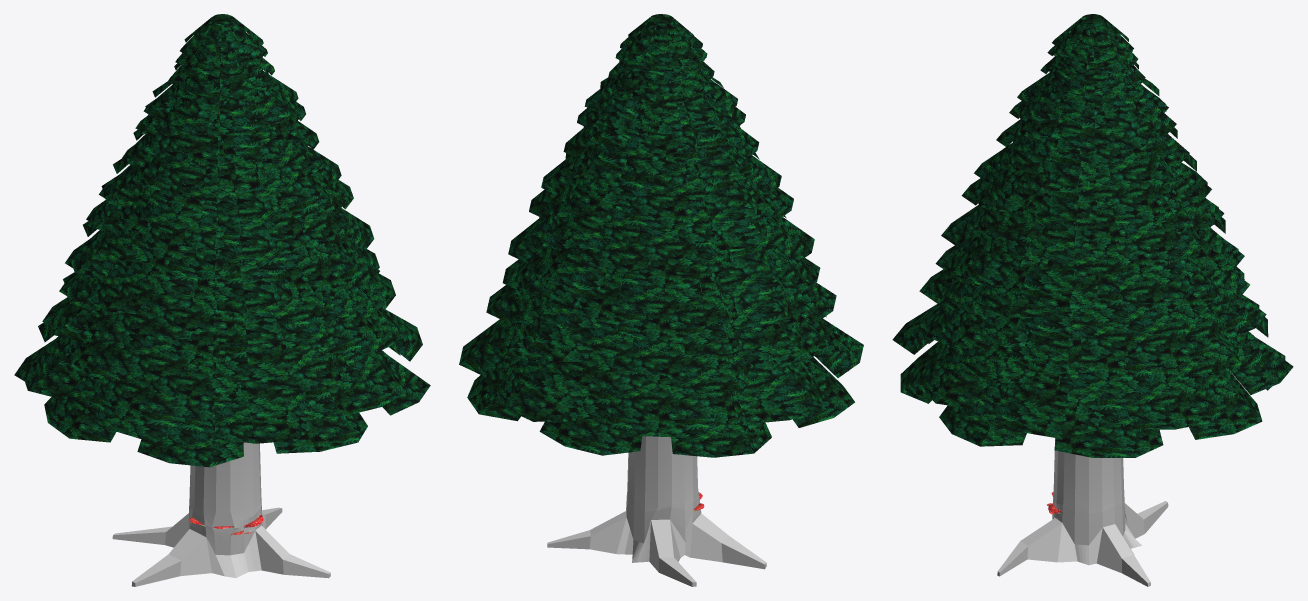
File: NORMAL fir tree TW.fbx
3 views of the same model, side by side, from view 1: azimuth 30°, elevation 25°; view 2: azimuth 150°, elevation 25°; view 3: azimuth 270°, elevation 25° (orthographic).
Visible parts, largest first — view 1: top, Cube.001; view 2: top, Cube.001; view 3: top, Cube.001.
Boxes of the visible parts, bbox=[...] form: top: bbox=[14, 14, 430, 467]; Cube.001: bbox=[112, 442, 330, 586]; top: bbox=[459, 14, 863, 457]; Cube.001: bbox=[547, 436, 766, 586]; top: bbox=[892, 14, 1293, 457]; Cube.001: bbox=[997, 438, 1168, 586].
Bounding box in the file's own units: 1593 × 2295 × 1577.
